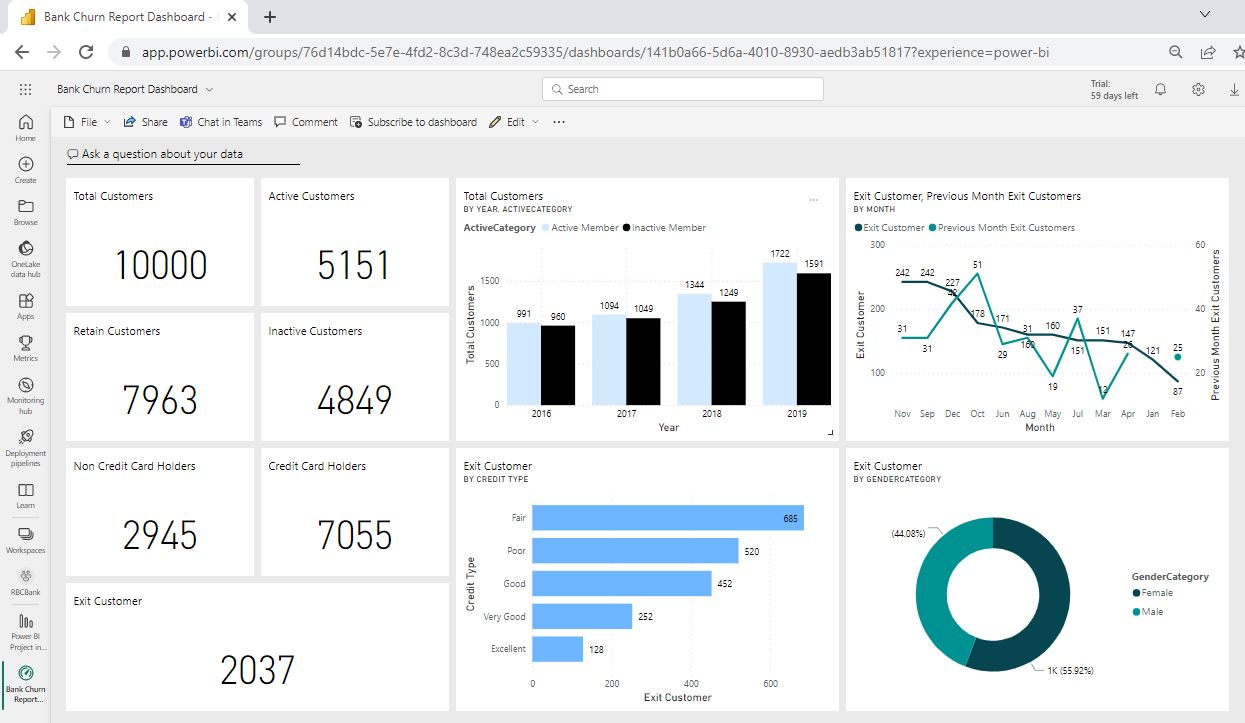

The page's visual inventory and layout, read from the dashboard file:
{"tool":"powerbi","page":{"name":"Page 1","canvas":[1280,720],"ordinal":0},"visuals":[{"type":"card","fields":{"Values":["Calculations.Total Customers"]},"box":[0,88.1,174.8,118.5],"z":0},{"type":"card","fields":{"Values":["Calculations.Inactive Customers"]},"box":[361.2,88.1,184.9,118.5],"z":1000},{"type":"card","fields":{"Values":["Calculations.Active Customers"]},"box":[187.8,88.1,161.8,118.5],"z":2000},{"type":"textbox","box":[0,0,1280.5,87.7],"z":3000},{"type":"card","fields":{"Values":["Calculations.Credit Card Holders"]},"box":[564.9,88.1,177.7,118.5],"z":4000},{"type":"card","fields":{"Values":["Calculations.Non Credit Card Holders"]},"box":[757,88.1,189.3,118.5],"z":5000},{"type":"card","fields":{"Values":["Calculations.Exit Customer"]},"box":[956.4,88.1,140.1,118.5],"z":6000},{"type":"card","fields":{"Values":["Calculations.Retain Customers"]},"box":[1108.1,88.1,161.8,118.5],"z":7000},{"type":"shape","box":[0,220.6,1279.4,23.5],"z":8000},{"type":"shape","box":[225,233.8,86.8,486.8],"z":9000},{"type":"slicer","fields":{"Values":["DateMaster.Year"]},"box":[0,244.1,252.9,94.1],"z":10000},{"type":"slicer","fields":{"Values":["DateMaster.Month"]},"box":[0,338.2,252.9,94.1],"z":11000},{"type":"slicer","fields":{"Values":["Geography.GeographyLocation"]},"box":[0,432.4,252.9,94.1],"z":12000},{"type":"slicer","fields":{"Values":["Gender.GenderCategory"]},"box":[0,526.5,252.9,94.1],"z":13000},{"type":"slicer","fields":{"Values":["CreditCard.Category"]},"box":[0,626.5,252.9,94.1],"z":14000},{"type":"clusteredColumnChart","fields":{"Category":["DateMaster.Year","DateMaster.Month"],"Y":["Calculations.Total Customers"],"Series":["ActiveCustomer.ActiveCategory"]},"box":[268.7,232.8,378,242.9],"z":15000},{"type":"lineChart","fields":{"Category":["DateMaster.Month"],"Y":["Calculations.Exit Customer"],"Y2":["Calculations.Previous Month Exit Customers"]},"box":[658.2,231.4,622.3,244.3],"z":16000},{"type":"donutChart","fields":{"Y":["Calculations.Exit Customer"],"Category":["Gender.GenderCategory"]},"box":[267.3,477.1,334.9,242.9],"z":17000},{"type":"clusteredBarChart","fields":{"Category":["Bank_Churn.Credit Type"],"Y":["Calculations.Exit Customer"]},"box":[602.3,476.5,667.4,244.2],"z":18000}]}

Visuals, with their boxes on the page's 1280x720 design canvas (x1, y1, x2, y2). These are canvas units, not pixel positions in the 1245x723 screenshot, which may show the page scaled, cropped or inside an application window:
card - Calculations.Total Customers: locate(0, 88, 175, 207)
card - Calculations.Inactive Customers: locate(361, 88, 546, 207)
card - Calculations.Active Customers: locate(188, 88, 350, 207)
textbox: locate(0, 0, 1280, 88)
card - Calculations.Credit Card Holders: locate(565, 88, 743, 207)
card - Calculations.Non Credit Card Holders: locate(757, 88, 946, 207)
card - Calculations.Exit Customer: locate(956, 88, 1096, 207)
card - Calculations.Retain Customers: locate(1108, 88, 1270, 207)
shape: locate(0, 221, 1279, 244)
shape: locate(225, 234, 312, 721)
slicer - DateMaster.Year: locate(0, 244, 253, 338)
slicer - DateMaster.Month: locate(0, 338, 253, 432)
slicer - Geography.GeographyLocation: locate(0, 432, 253, 526)
slicer - Gender.GenderCategory: locate(0, 526, 253, 621)
slicer - CreditCard.Category: locate(0, 626, 253, 721)
clusteredColumnChart - DateMaster.Year x DateMaster.Month: locate(269, 233, 647, 476)
lineChart - DateMaster.Month x Calculations.Exit Customer: locate(658, 231, 1280, 476)
donutChart - Calculations.Exit Customer x Gender.GenderCategory: locate(267, 477, 602, 720)
clusteredBarChart - Bank_Churn.Credit Type x Calculations.Exit Customer: locate(602, 476, 1270, 721)
